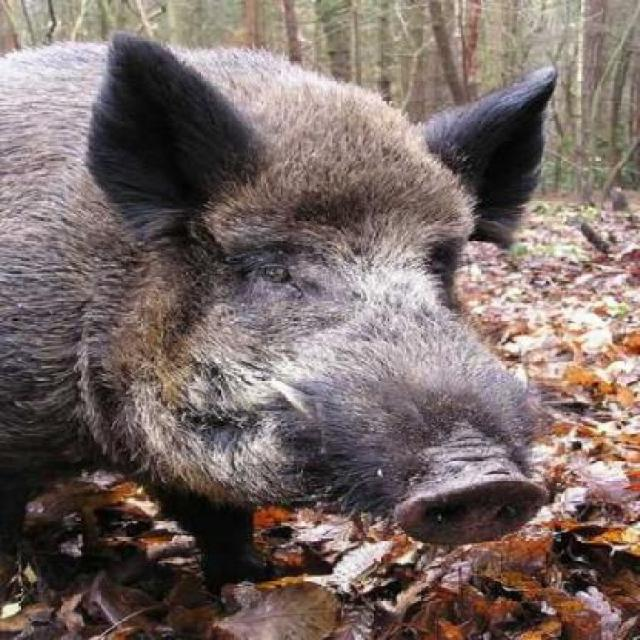pig: (0, 9, 638, 598)
